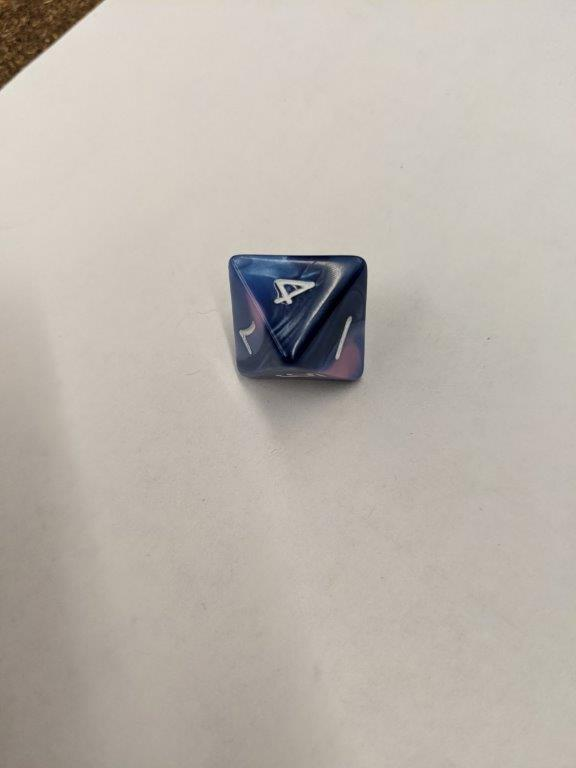d8-4: (230, 254, 367, 382)
